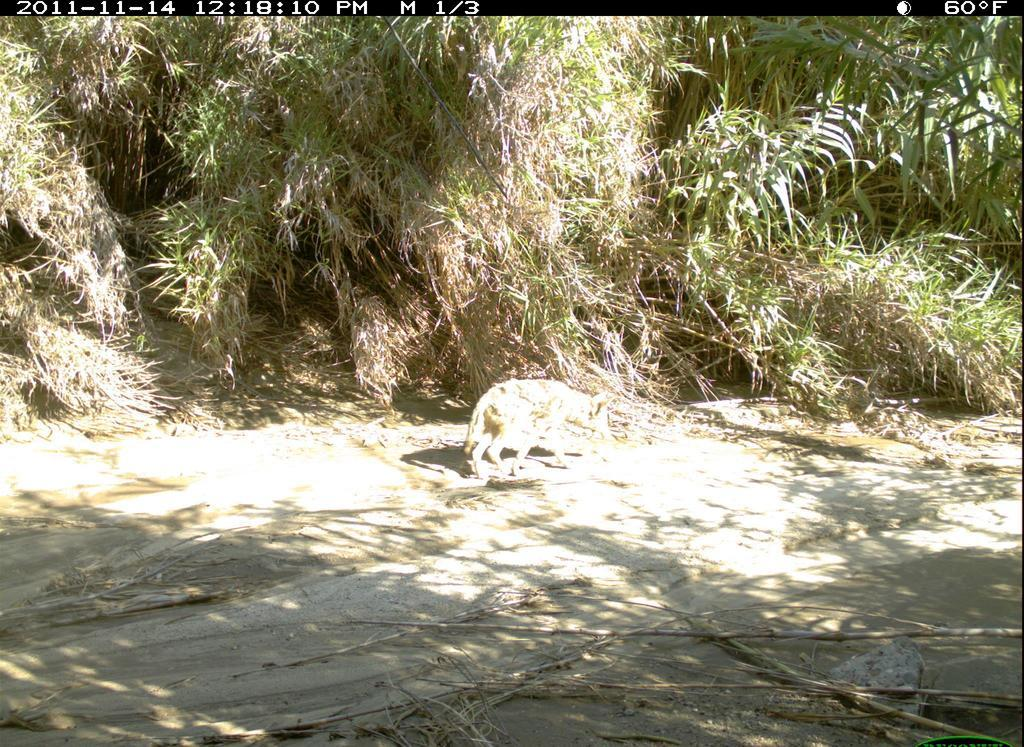coyote: (455, 372, 625, 488)
